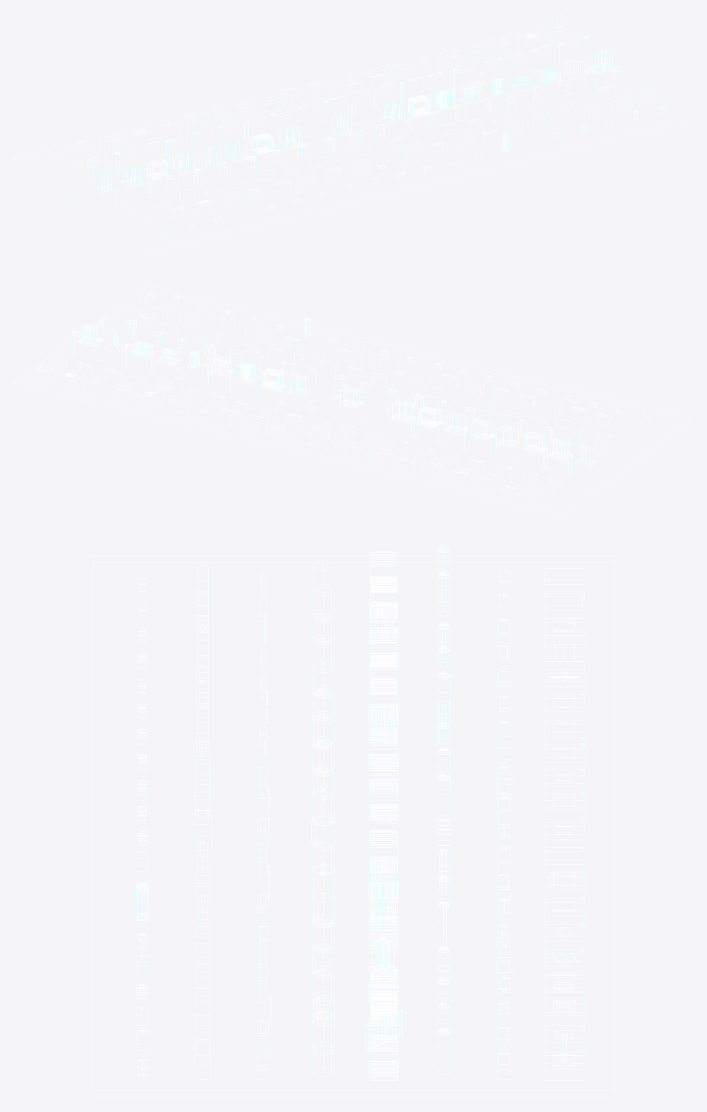
File: component_reference-outline.glb
3 renders of one model, top to bottom at view 1: azimuth 30°, elevation 25°; view 2: azimuth 150°, elevation 25°; view 3: azimuth 270°, elevation 25°, orthographic. The views are drawn at different scales.
Parts seen in each view (by area): view 1: outline_parts; view 2: outline_parts; view 3: outline_parts.
Boxes of the visible parts, x1,y1,x2,y2 form: outline_parts: [14, 14, 692, 255]; outline_parts: [14, 284, 692, 517]; outline_parts: [92, 546, 614, 1097].
Size of the model in its own units: 63.02 by 2.82 by 26.02.
